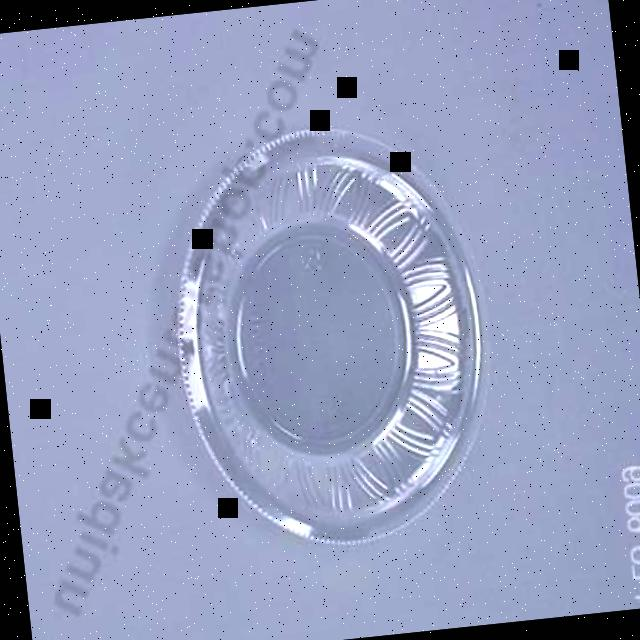plastic_box: (153, 115, 507, 560)
